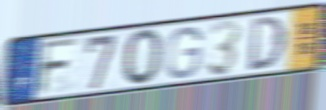3: (206, 17, 246, 78)
7: (83, 32, 120, 92)
D: (247, 14, 289, 73)
F: (34, 36, 81, 98)
G: (164, 25, 204, 81)
O: (122, 27, 165, 88)
